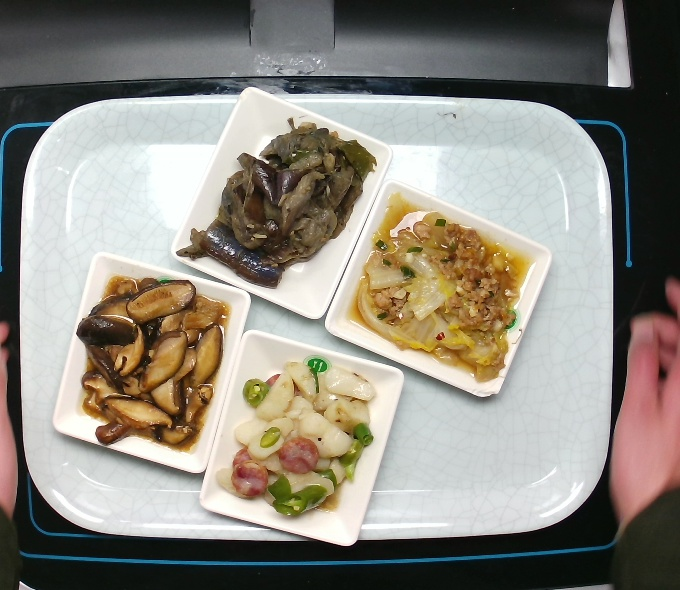wcq-MaTiGuo: (217, 354, 388, 525)
wcq-MoGu: (60, 271, 225, 455)
wcq-QieZi: (173, 116, 379, 297)
wcq-RouMoBaiCai: (349, 199, 533, 390)
